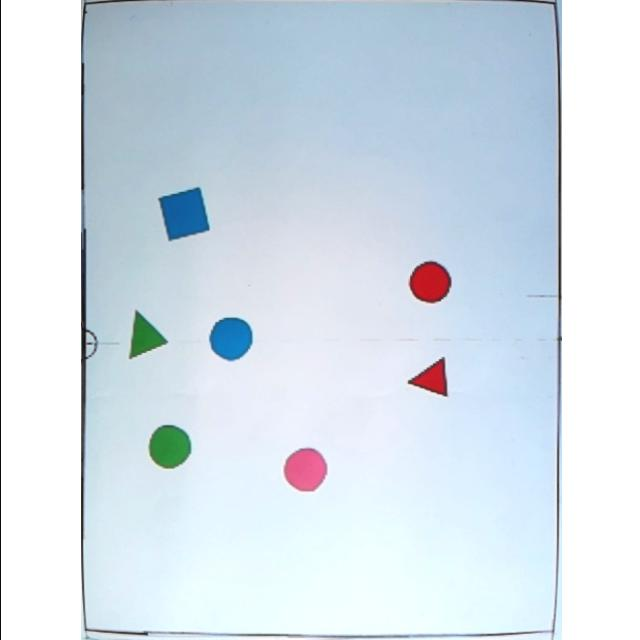blueCircle: (207, 317, 251, 361)
blueSquare: (156, 187, 208, 241)
greenCircle: (146, 425, 190, 469)
greenTriangle: (126, 310, 166, 358)
pinkCircle: (282, 448, 324, 492)
redCircle: (406, 260, 449, 304)
redTriangle: (407, 356, 448, 398)
